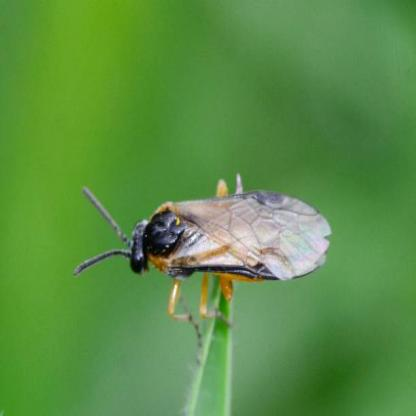sawfly: (68, 167, 335, 351)
